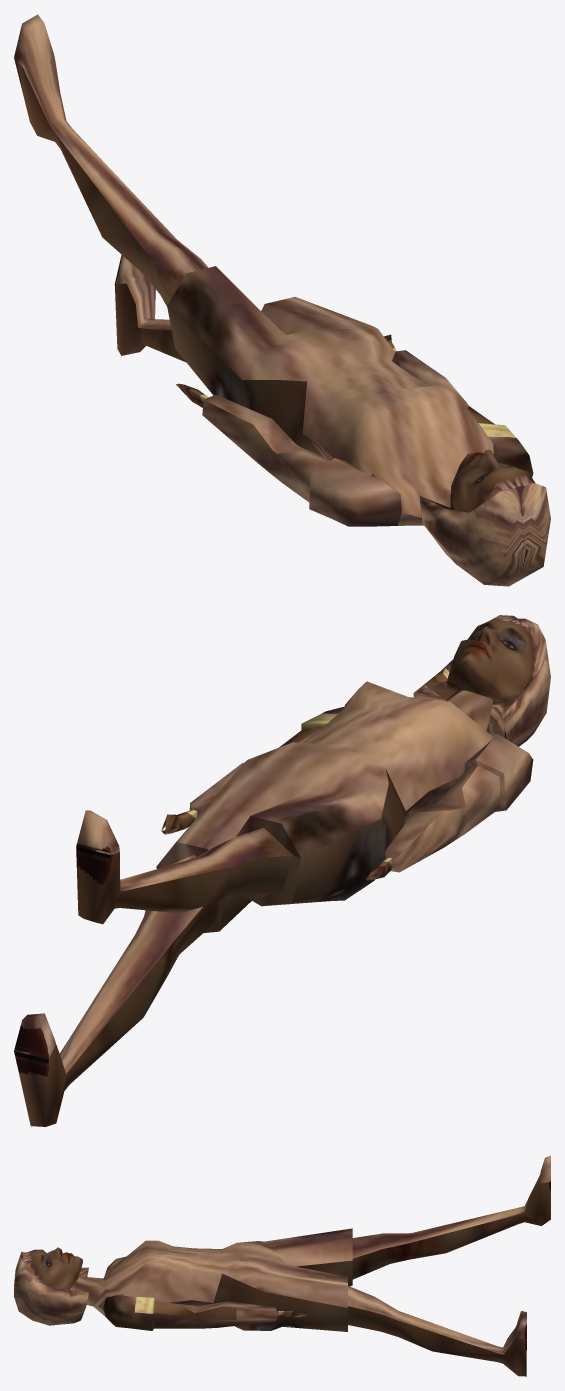
File: npc_cici_walk2.obj
The picture shows the model from 3 angles, top to bottom: view 1: azimuth 30°, elevation 25°; view 2: azimuth 150°, elevation 25°; view 3: azimuth 270°, elevation 25°; orthographic projection. The views are drawn at different scales.
Visible parts, largest first — view 1: npc_cici_walk2; view 2: npc_cici_walk2; view 3: npc_cici_walk2.
Part boxes in pixels (left/top/right/bottom): npc_cici_walk2: left=14, top=14, right=550, bottom=586; npc_cici_walk2: left=14, top=615, right=550, bottom=1126; npc_cici_walk2: left=14, top=1155, right=550, bottom=1376.
Size of the model in its own units: 0.296 by 0.4544 by 1.11.
Materials: 1 (1 with a texture image).
